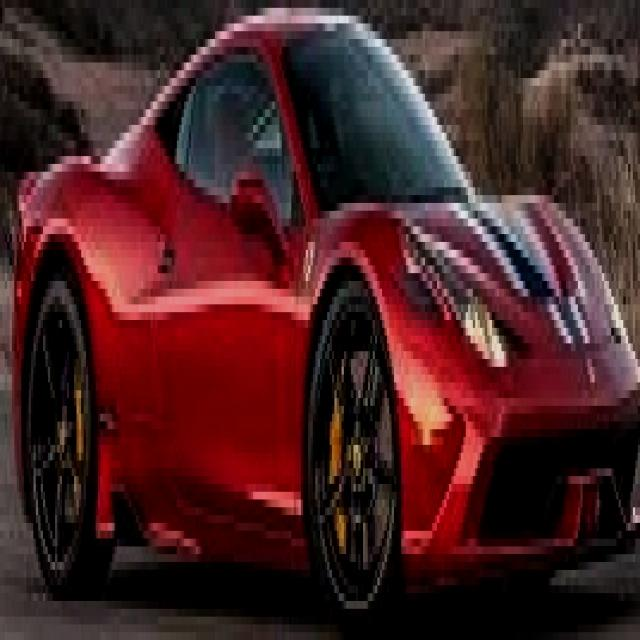red: (22, 16, 634, 588)
